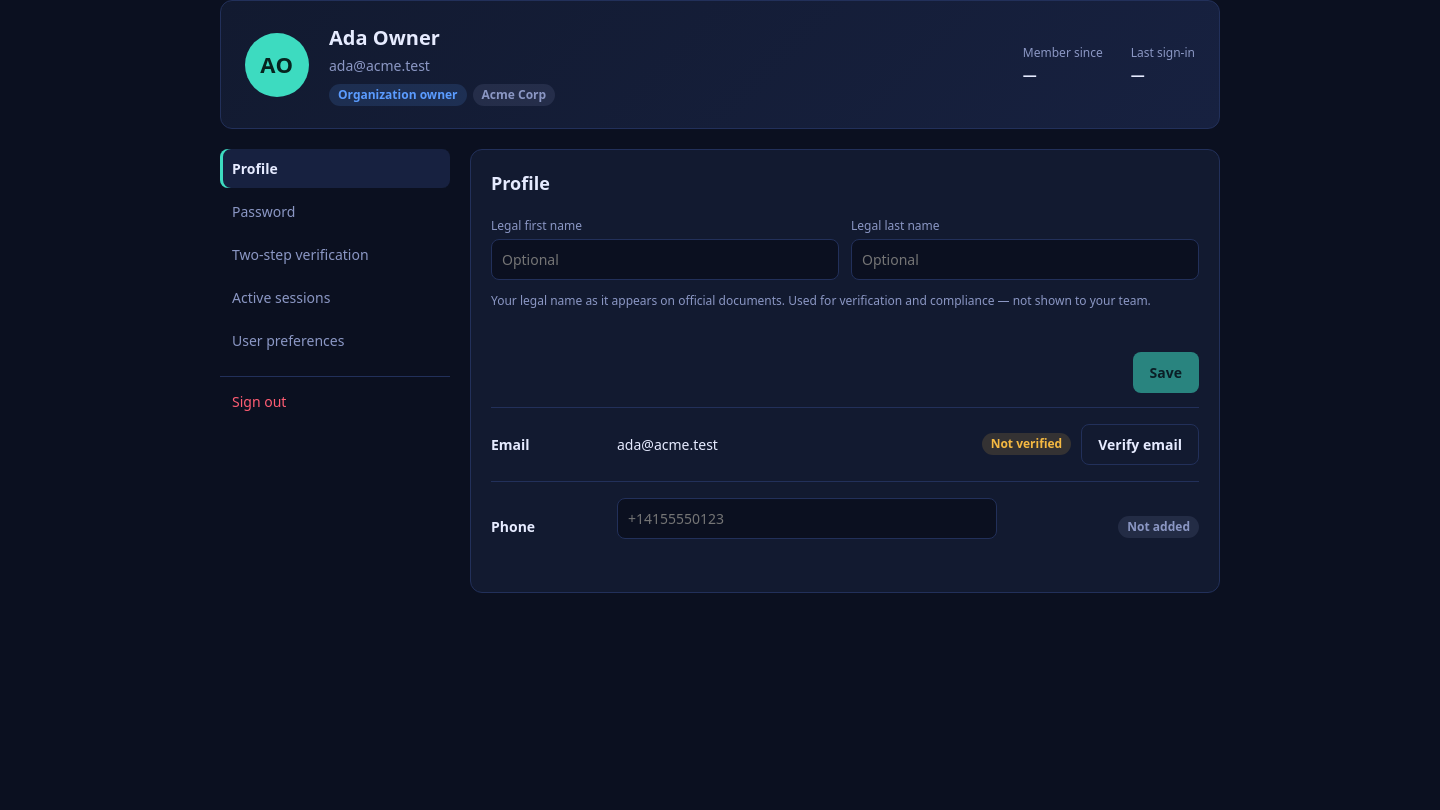
AccountPage › shows email verification status and sends a link when not verified
The image size is (1440, 810).
Expected: the text "Not verified" is shown, [982,433,1071,455]
Click the button "Verify email" at (1140, 444), box [1081,424,1199,465]
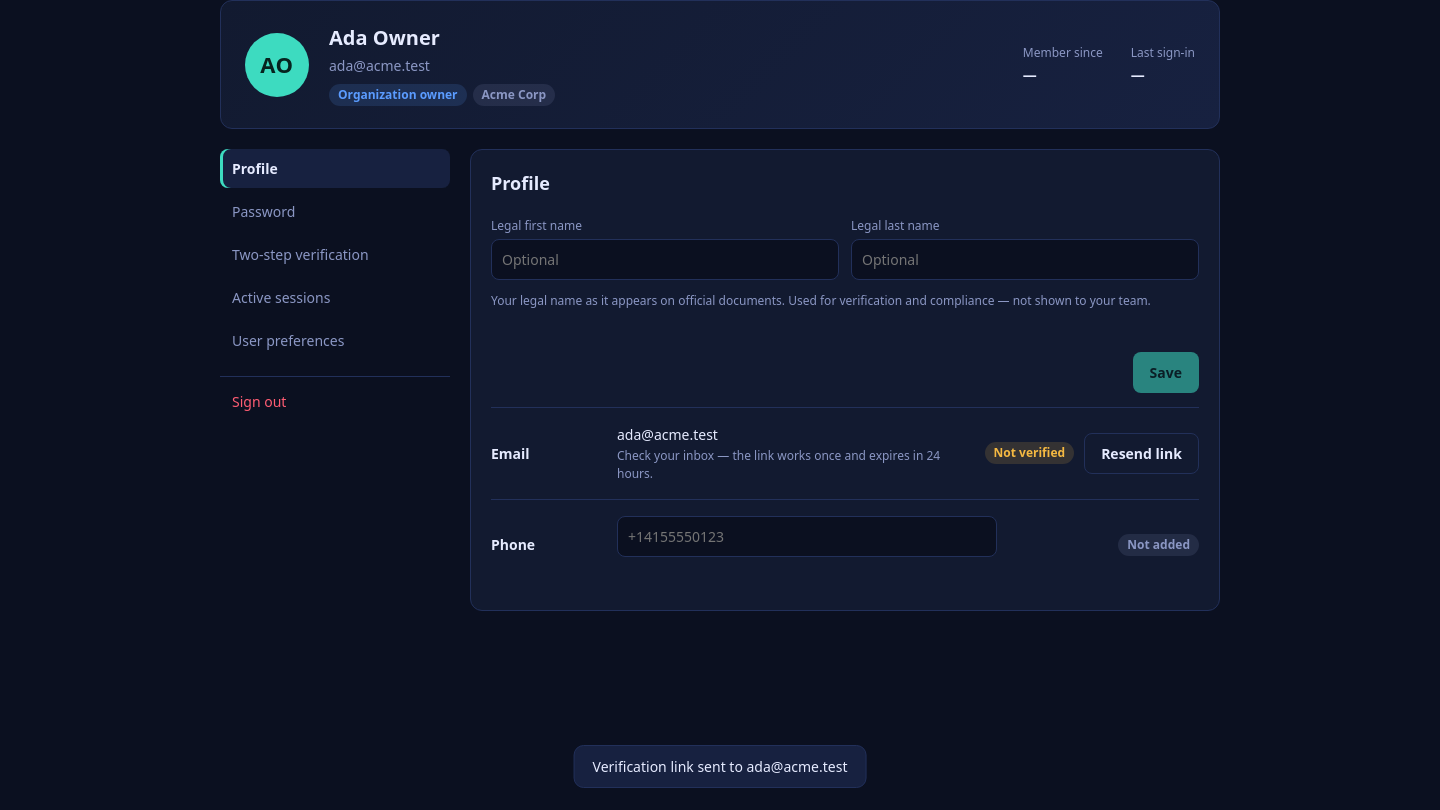
Expected: the text "link works once and expires in 24 hours" is shown, [617,447,940,482]
Expected: the button "Resend link" is shown, [1084,433,1199,474]
